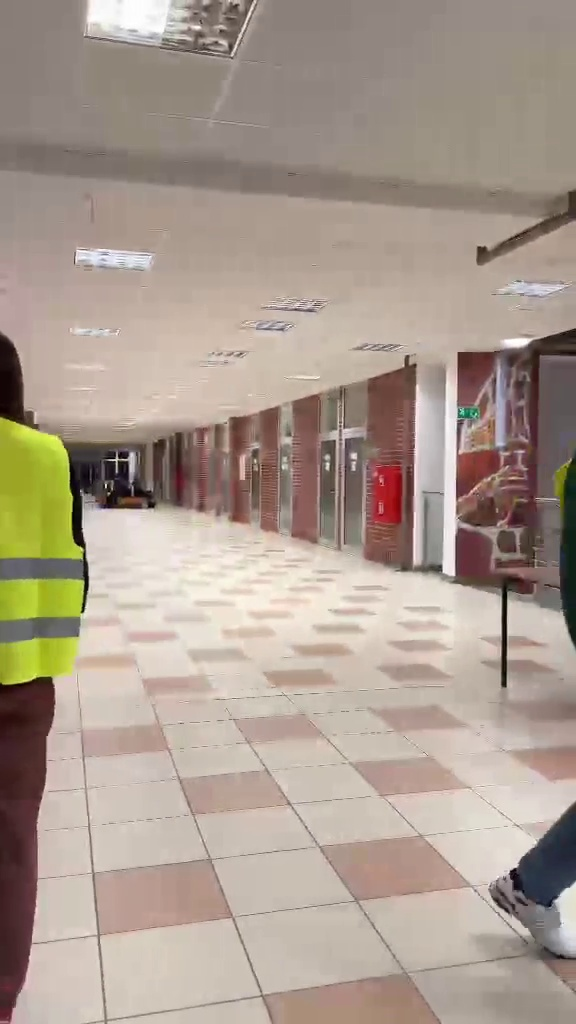vest: (0, 330, 94, 985)
